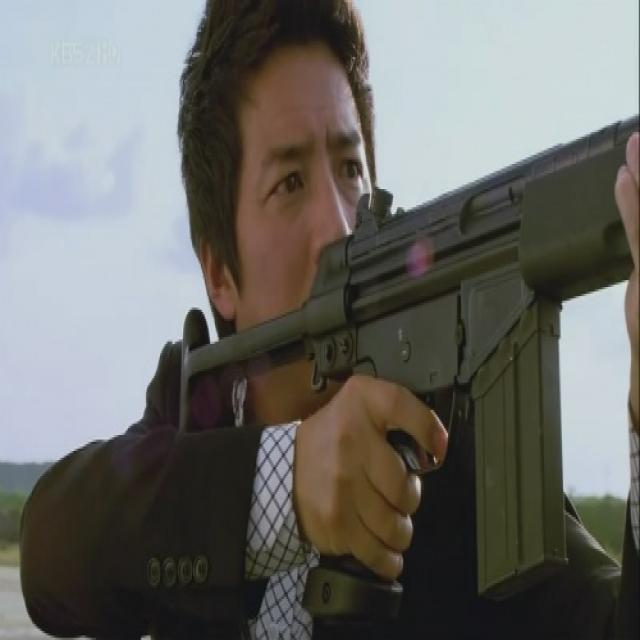rifle: (174, 98, 640, 636)
